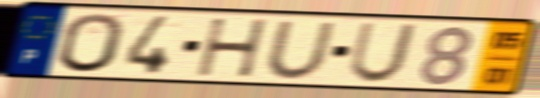4: (122, 14, 173, 77)
8: (419, 24, 477, 87)
H: (195, 17, 271, 80)
O: (56, 11, 127, 75)
U: (345, 21, 421, 85), (263, 20, 339, 81)
